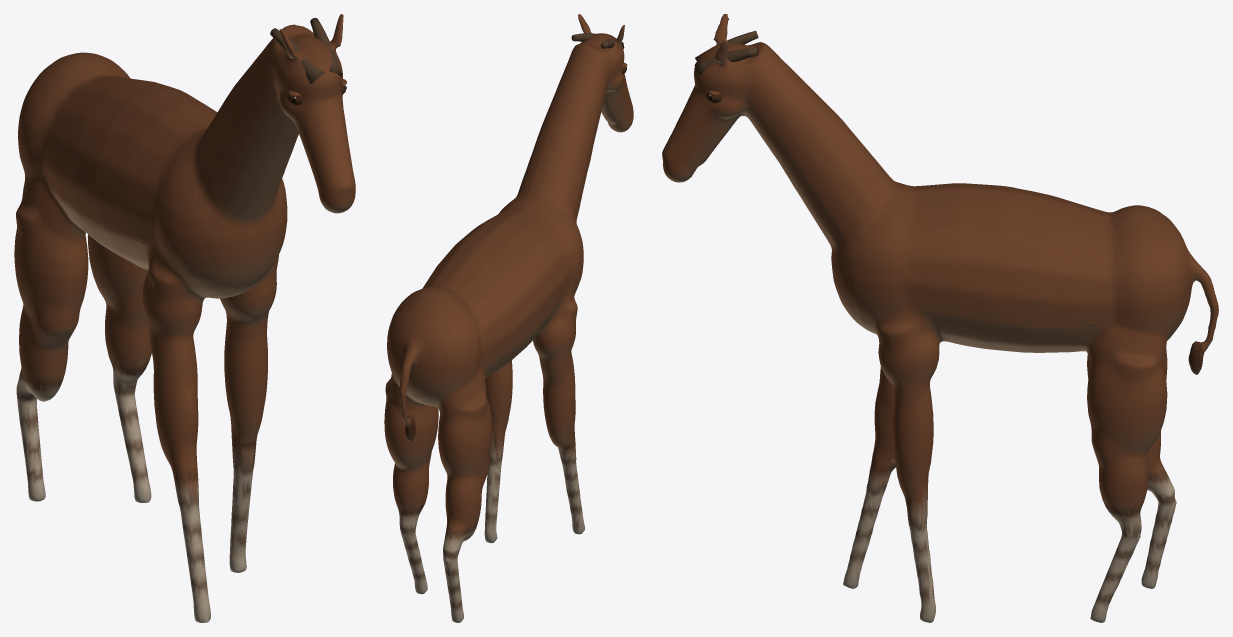
File: SamotheriumBoissieri.fbx
3 renders of one model, left to right at view 1: azimuth 30°, elevation 25°; view 2: azimuth 150°, elevation 25°; view 3: azimuth 270°, elevation 25°, orthographic. The views are drawn at different scales.
Visible parts, largest first — view 1: SamotheriumBoissieri; view 2: SamotheriumBoissieri; view 3: SamotheriumBoissieri.
Boxes of the visible parts, x1,y1,x2,y2 form: SamotheriumBoissieri: (14,14,355,622); SamotheriumBoissieri: (384,14,633,622); SamotheriumBoissieri: (662,14,1218,622).
Bounding box in the file's own units: 0.4208 × 1.95 × 1.71.
